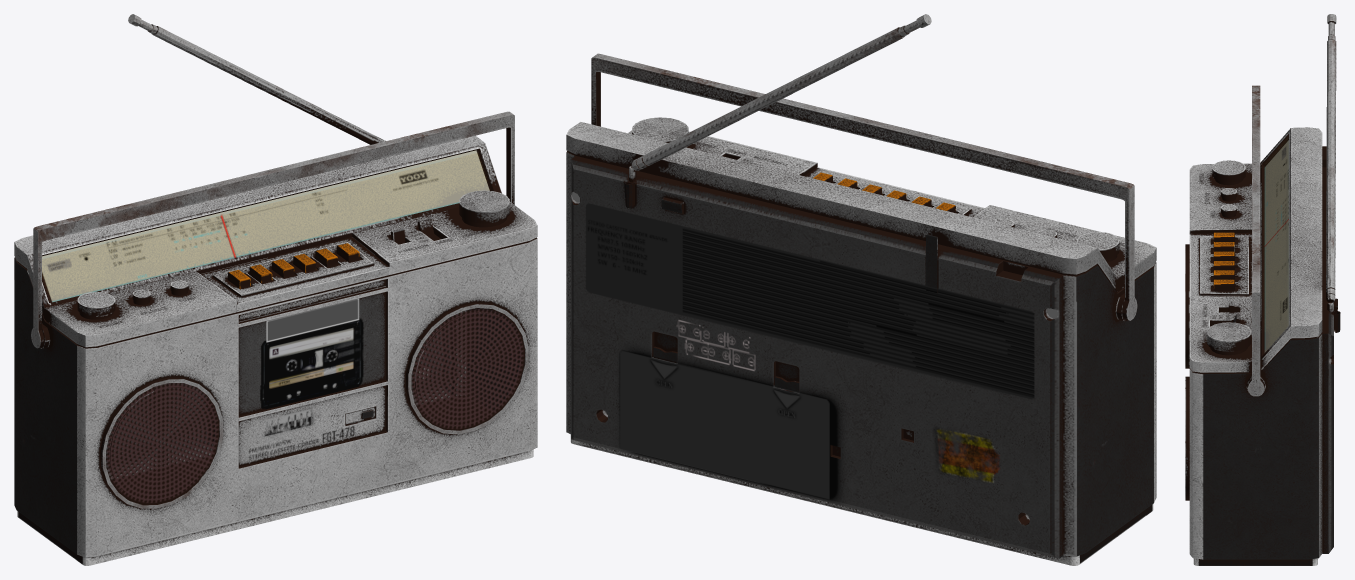
File: Boombox_69315cb8.glb
3 views of the same model, side by side, from view 1: azimuth 30°, elevation 25°; view 2: azimuth 150°, elevation 25°; view 3: azimuth 270°, elevation 25° (orthographic). The views are drawn at different scales.
Parts seen in each view (by area): view 1: SonyBoombox_Low_DefaultMaterial_0; view 2: SonyBoombox_Low_DefaultMaterial_0; view 3: SonyBoombox_Low_DefaultMaterial_0.
Boxes of the visible parts, x1,y1,x2,y2 form: SonyBoombox_Low_DefaultMaterial_0: (14,14,537,565); SonyBoombox_Low_DefaultMaterial_0: (566,14,1156,565); SonyBoombox_Low_DefaultMaterial_0: (1185,14,1340,565).
Bounding box in the file's own units: 0.46 × 0.4279 × 0.1462.
1 material, 1 textured.
